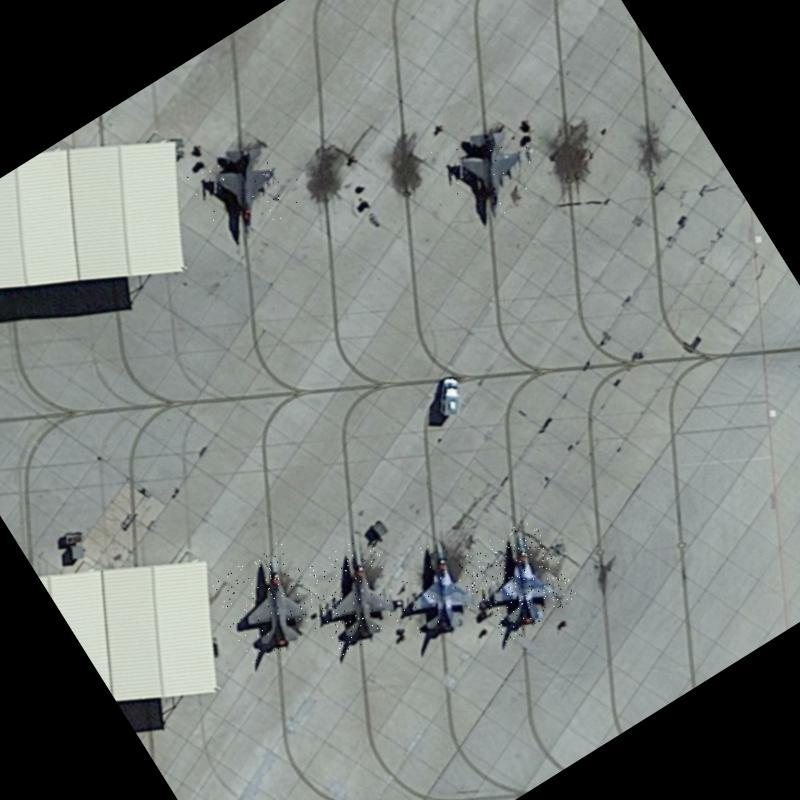A5: (180, 119, 312, 252), (290, 531, 418, 658), (456, 516, 582, 645), (206, 540, 330, 666), (430, 105, 551, 229), (376, 534, 488, 648)
